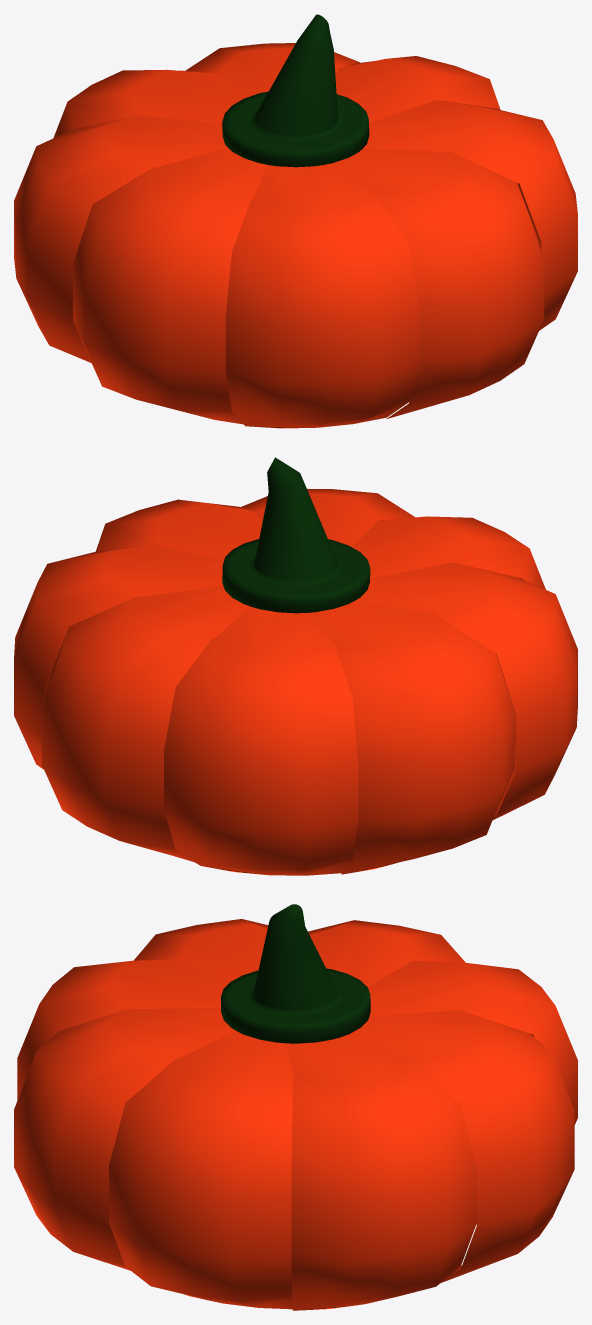
File: pumkling.fbx
The picture shows the model from 3 angles, top to bottom: view 1: azimuth 30°, elevation 25°; view 2: azimuth 150°, elevation 25°; view 3: azimuth 270°, elevation 25°; orthographic projection.
Visible parts, largest first — view 1: Cylinder125, Cylinder126, Cylinder124, Cylinder127, Cylinder123, Cylinder129, Cylinder128, Cylinder122, Cylinder121; view 2: Cylinder128, Cylinder127, Cylinder121, Cylinder126, Cylinder122, Cylinder129, Cylinder125, Cylinder123, Cylinder124; view 3: Cylinder122, Cylinder123, Cylinder121, Cylinder124, Cylinder129, Cylinder128, Cylinder125, Cylinder127, Cylinder126.
Boxes of the visible parts, <box> form: Cylinder125: <box>225,165,419,428</box>; Cylinder126: <box>73,148,266,424</box>; Cylinder124: <box>323,148,544,419</box>; Cylinder127: <box>14,115,227,362</box>; Cylinder123: <box>363,100,577,330</box>; Cylinder129: <box>222,14,369,167</box>; Cylinder128: <box>53,69,250,138</box>; Cylinder122: <box>335,56,500,123</box>; Cylinder121: <box>185,43,359,96</box>; Cylinder128: <box>164,606,358,875</box>; Cylinder127: <box>304,601,514,874</box>; Cylinder121: <box>42,586,250,862</box>; Cylinder126: <box>354,562,577,820</box>; Cylinder122: <box>14,544,223,769</box>; Cylinder129: <box>222,457,370,613</box>; Cylinder125: <box>352,516,545,741</box>; Cylinder123: <box>96,499,262,559</box>; Cylinder124: <box>241,488,414,546</box>; Cylinder122: <box>285,1037,476,1310</box>; Cylinder123: <box>109,1031,294,1309</box>; Cylinder121: <box>340,1010,574,1282</box>; Cylinder124: <box>14,1008,235,1270</box>; Cylinder129: <box>221,904,370,1043</box>; Cylinder128: <box>368,961,577,1124</box>; Cylinder125: <box>17,959,232,1100</box>; Cylinder127: <box>308,920,465,986</box>; Cylinder126: <box>134,919,268,980</box>.
Bounding box in the file's own units: 5.72 × 3.79 × 5.72.
